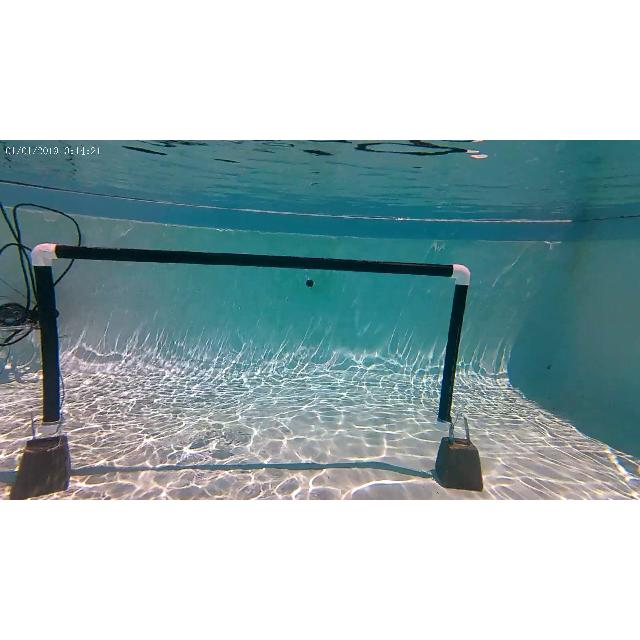prequal gate: (32, 244, 472, 436)
prequal gate leg l: (26, 247, 66, 486)
prequal gate leg r: (443, 262, 477, 490)
